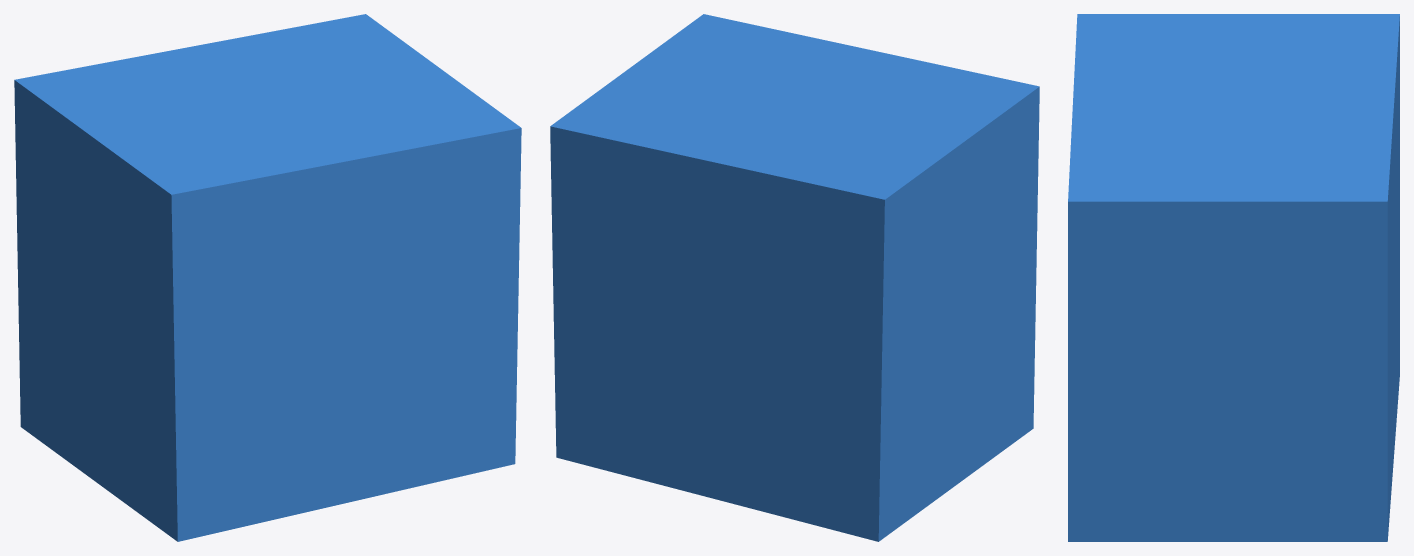
The model's file is Collision_Prop_Brick4.fbx.
3 renders of one model, left to right at view 1: azimuth 30°, elevation 25°; view 2: azimuth 150°, elevation 25°; view 3: azimuth 270°, elevation 25°, orthographic. The views are drawn at different scales.
Visible parts, largest first — view 1: UCX_Prop_Brick4_1; view 2: UCX_Prop_Brick4_1; view 3: UCX_Prop_Brick4_1.
Boxes of the visible parts, x1=… form: UCX_Prop_Brick4_1: x1=14, y1=14, x2=521, y2=541; UCX_Prop_Brick4_1: x1=550, y1=14, x2=1039, y2=541; UCX_Prop_Brick4_1: x1=1068, y1=14, x2=1399, y2=541.
Size of the model in its own units: 25.93 by 25 by 21.01.
